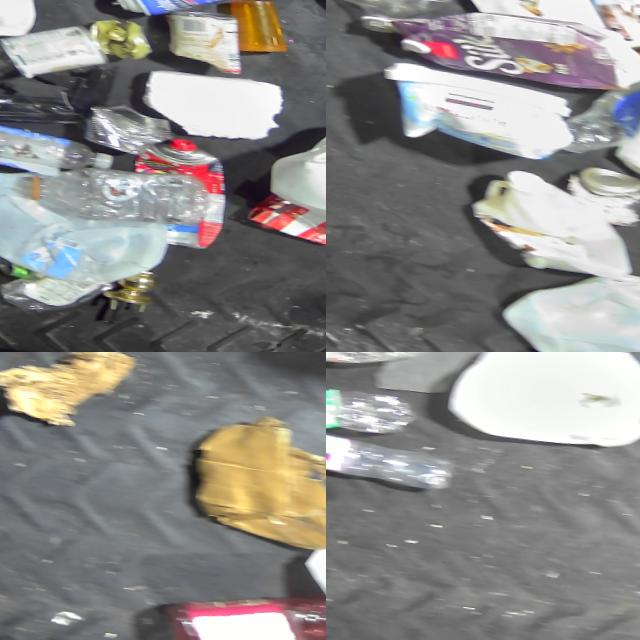can: (0, 15, 112, 88), (158, 5, 248, 76), (559, 163, 640, 232), (82, 98, 174, 158), (107, 0, 277, 30), (82, 14, 156, 64)
milk_jug: (0, 166, 172, 295), (459, 164, 640, 282), (443, 352, 640, 457), (490, 256, 640, 352), (263, 106, 326, 245)
non_white_jug: (382, 0, 640, 100)
plastic_bottle: (13, 154, 211, 231), (557, 55, 640, 169), (326, 425, 456, 493), (0, 109, 115, 174), (326, 379, 418, 448), (326, 0, 468, 42), (326, 352, 434, 374)
